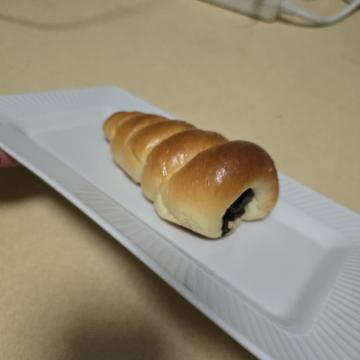cream horn: (96, 75, 256, 272)
